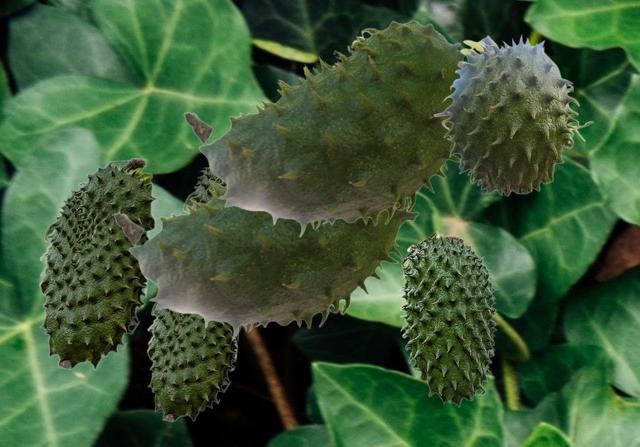guyabano: (183, 20, 464, 237), (113, 178, 419, 340), (433, 33, 593, 196), (38, 157, 156, 369), (398, 230, 498, 406), (182, 166, 257, 331), (146, 303, 239, 421)
